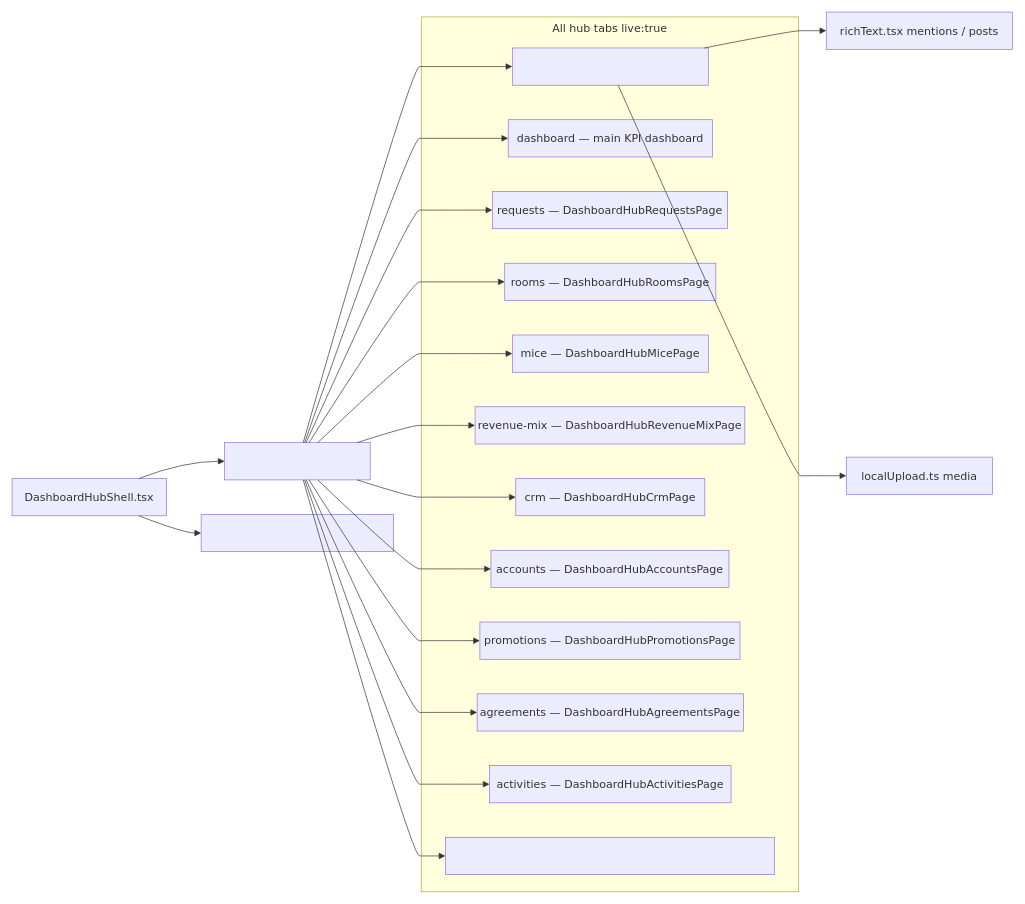
This 1025x904 diagram has some shape labels left out. Here are the shapes that lost their labels. From the top down, the centre of each, then its label:
At (x=610, y=66): "feed — DashboardHubFeedPage".
At (x=297, y=461): "dashboardHubTabs.ts".
At (x=297, y=533): "HubDataContext + analyticsKit".
At (x=610, y=856): "sales-performance — DashboardHubSalesPerformancePage".
